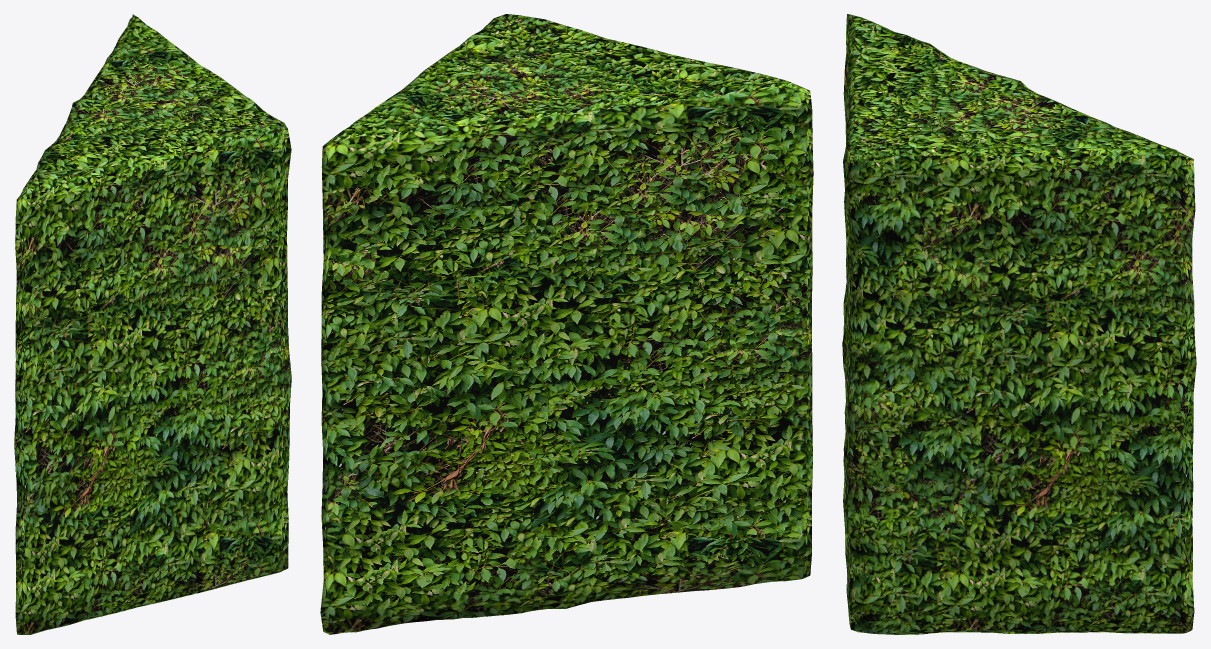
The model's file is TRIANGULARFILLETBoxHedge01.fbx.
3 views of the same model, side by side, from view 1: azimuth 30°, elevation 25°; view 2: azimuth 150°, elevation 25°; view 3: azimuth 270°, elevation 25° (orthographic). The views are drawn at different scales.
Parts seen in each view (by area): view 1: default; view 2: default; view 3: default.
Boxes of the visible parts, x1=… form: default: x1=14, y1=14, x2=291, y2=634; default: x1=320, y1=14, x2=813, y2=634; default: x1=842, y1=14, x2=1196, y2=634.
Bounding box in the file's own units: 1.93 × 2.97 × 1.95.
Materials: 1 (1 with a texture image).
